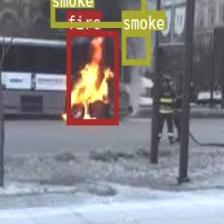fire: (66, 30, 118, 123)
smoke: (50, 0, 144, 27), (122, 30, 150, 63)
